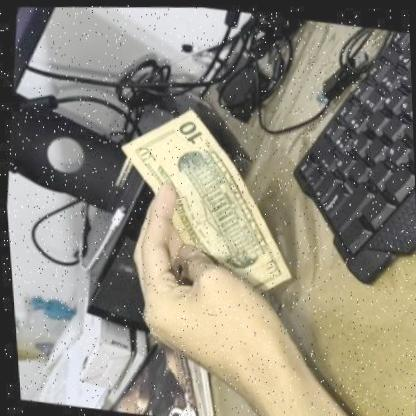ten-back: (99, 90, 314, 316)
